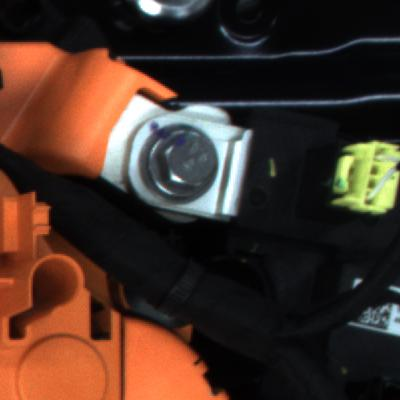nut_b: (132, 120, 236, 213)
